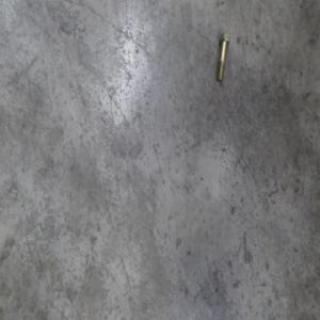Bolttrack_idkeyframe: (214, 33, 230, 82)
